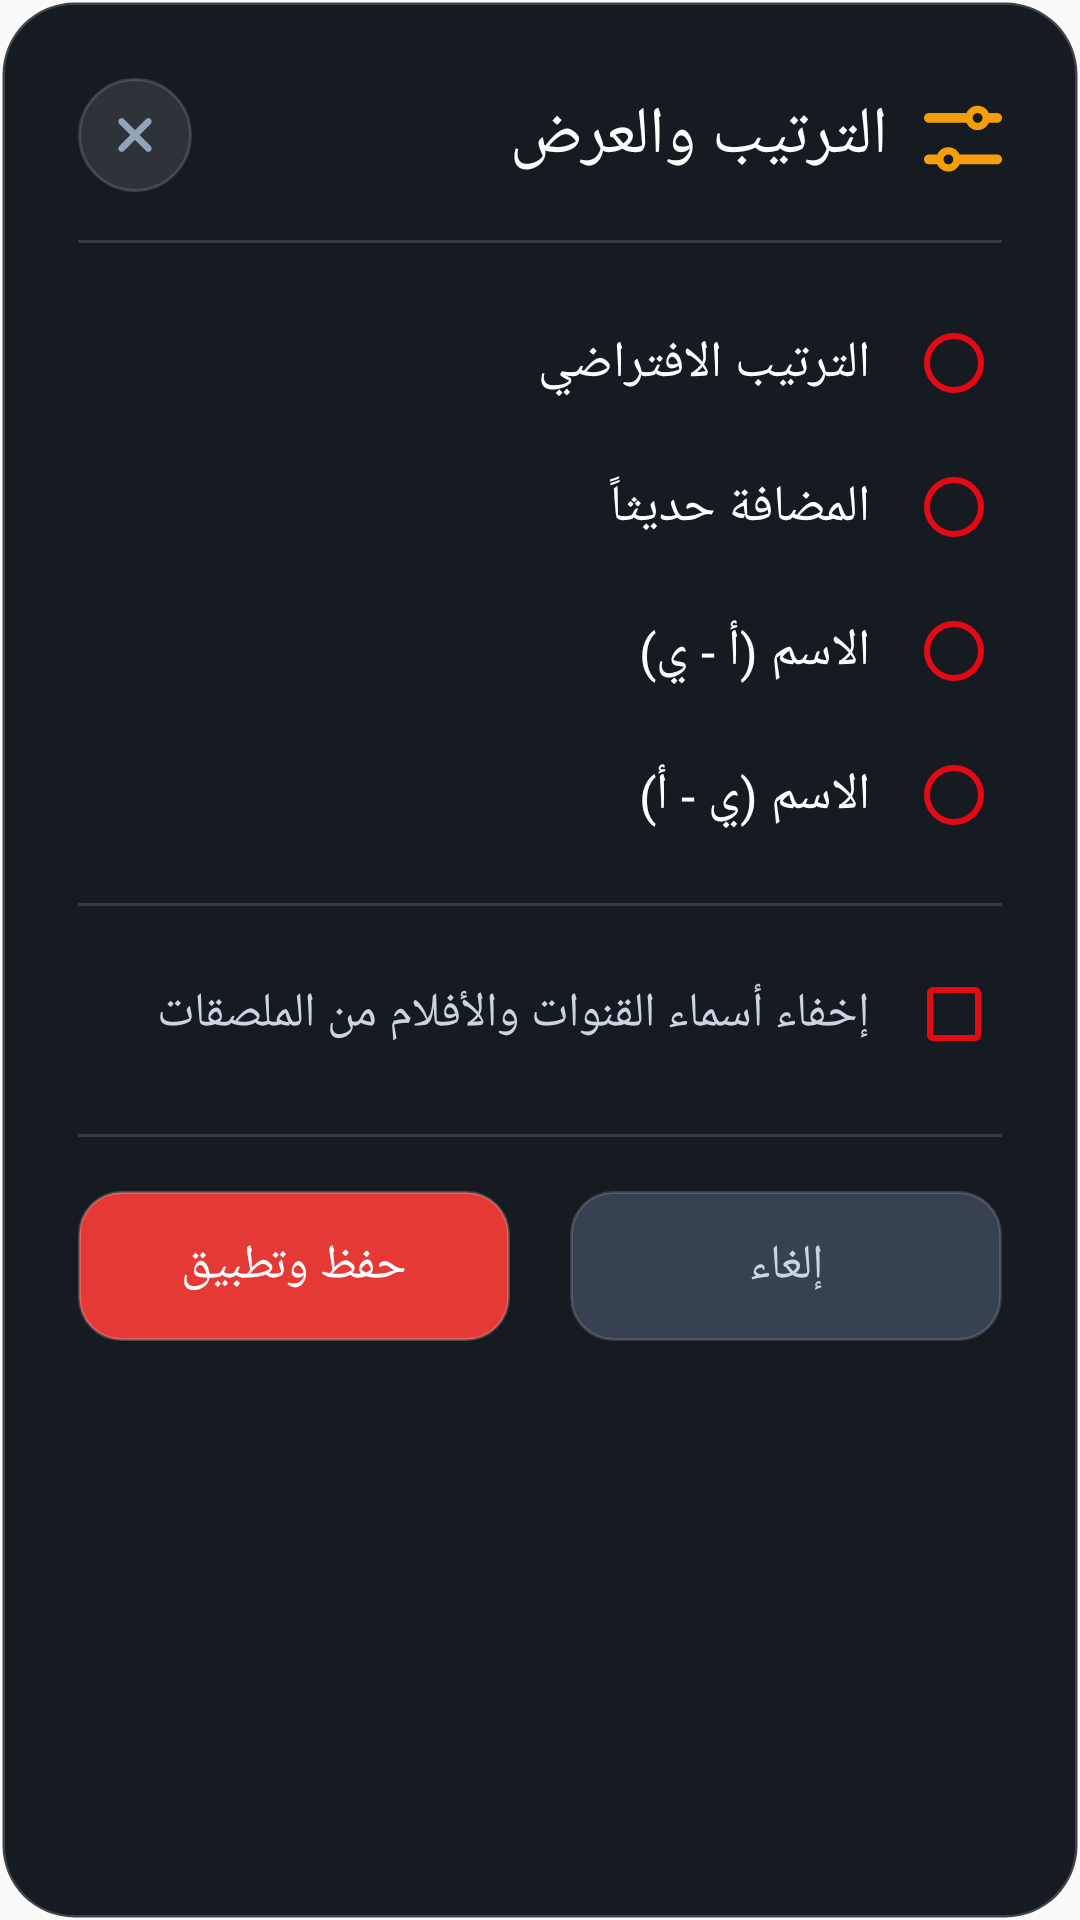

Locate icon controls on the screen. Image size 1080 x 1920, boxes as (x1, y1, x2, y2).
sliders: (924, 105, 1002, 172)
إغلاق: (78, 78, 192, 192)
